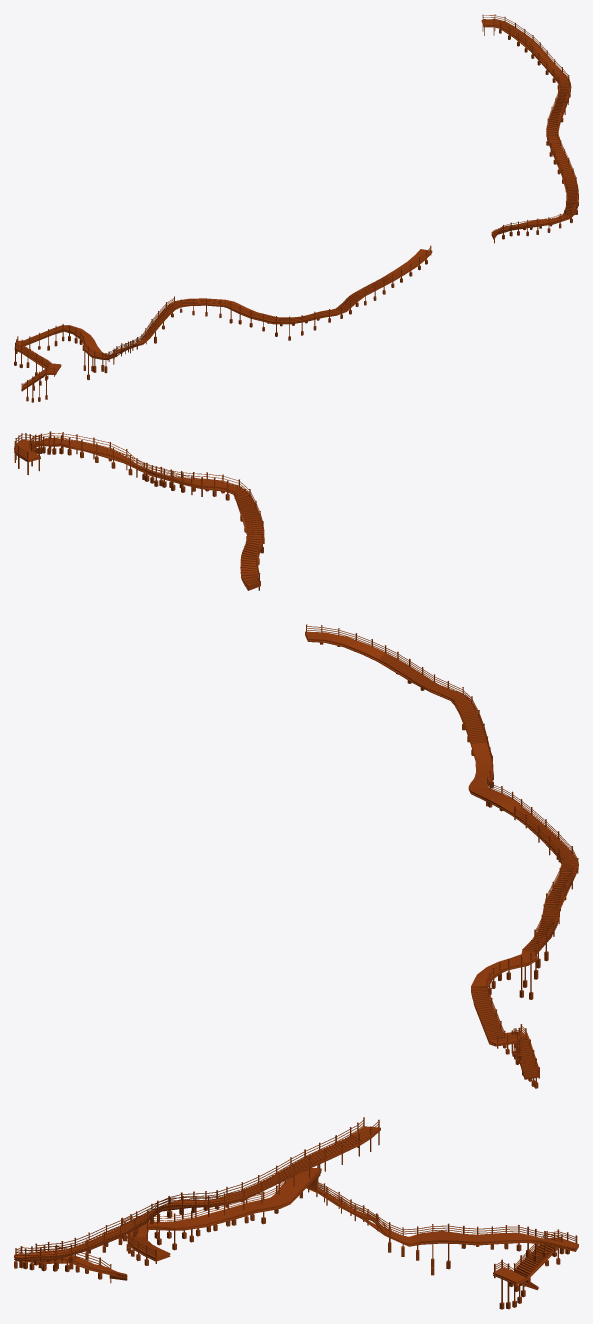
Rendered from Dokdo_Stair.FBX.
3 views of the same model, one above another, from view 1: azimuth 30°, elevation 25°; view 2: azimuth 150°, elevation 25°; view 3: azimuth 270°, elevation 25° (orthographic). The views are drawn at different scales.
Parts seen in each view (by area): view 1: Dokdo_Stair; view 2: Dokdo_Stair; view 3: Dokdo_Stair.
Part boxes in pixels (<box>): Dokdo_Stair: <box>14,14,578,402</box>; Dokdo_Stair: <box>14,431,578,1088</box>; Dokdo_Stair: <box>14,1117,578,1309</box>.
Bounding box in the file's own units: 108 × 73.67 × 77.4.
